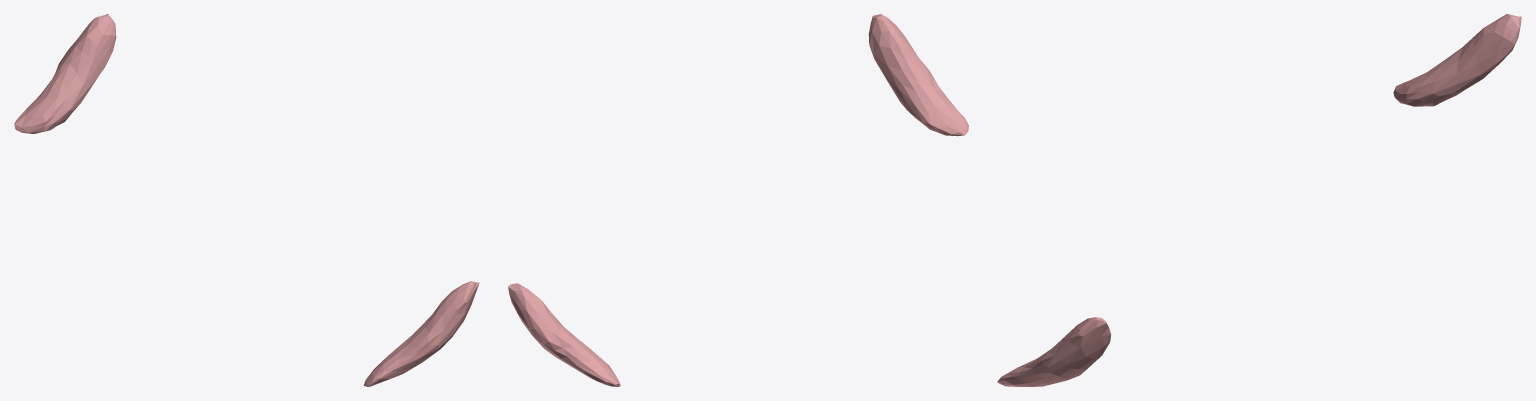
The picture shows the model from 3 angles, left to right: view 1: azimuth 30°, elevation 25°; view 2: azimuth 150°, elevation 25°; view 3: azimuth 330°, elevation 25°; orthographic projection. The views are drawn at different scales.
Visible parts, largest first — view 1: 496345672.obj; view 2: 496345672.obj; view 3: 496345672.obj.
Boxes of the visible parts, x1=… form: 496345672.obj: x1=14, y1=14, x2=479, y2=386; 496345672.obj: x1=508, y1=14, x2=968, y2=386; 496345672.obj: x1=997, y1=14, x2=1521, y2=386.
Bounding box in the file's own units: 743 × 614 × 4651.
